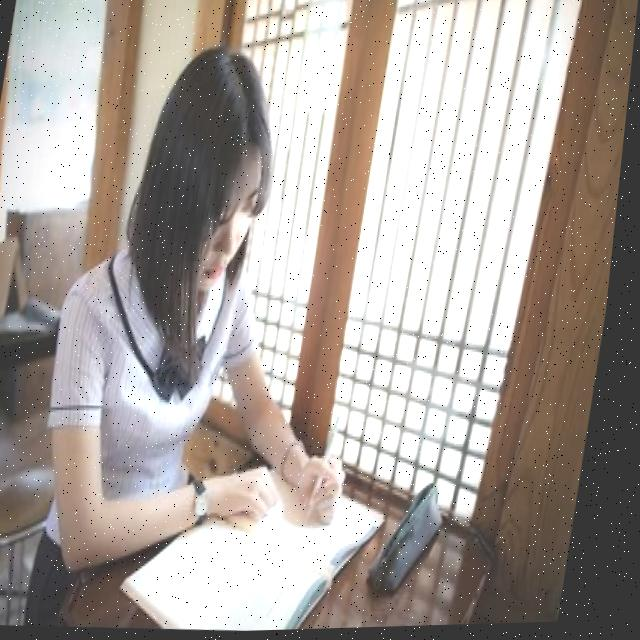studying-person: (22, 28, 400, 633)
